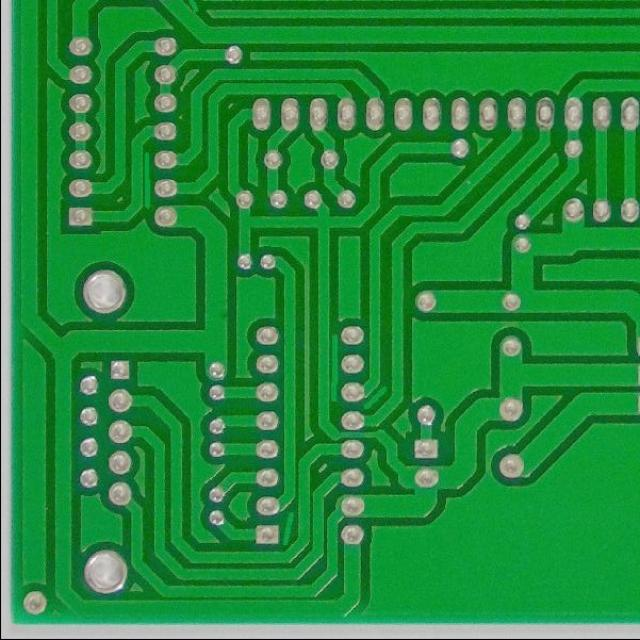Spurious_Cooper: (327, 330, 341, 406), (358, 380, 391, 412), (140, 147, 154, 213), (278, 507, 296, 548)
